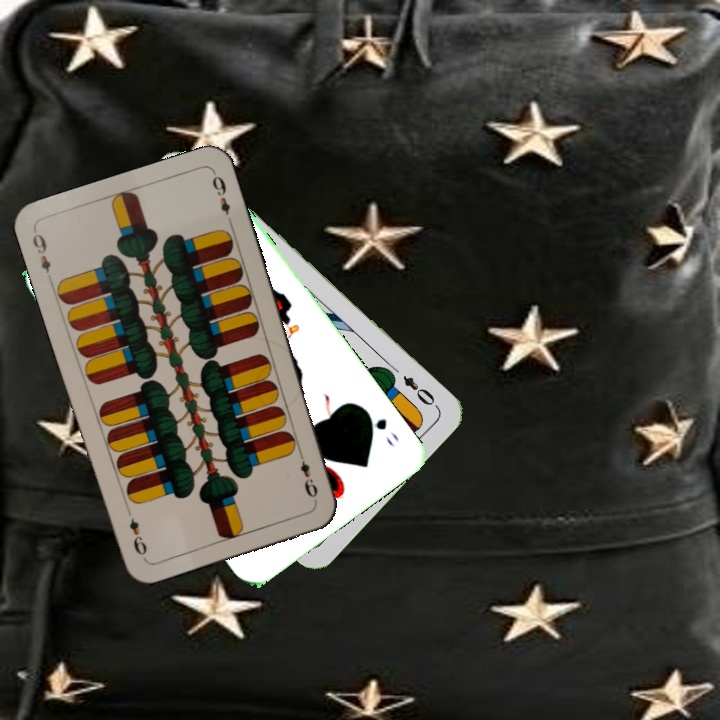E9: (294, 446, 321, 504), (28, 229, 53, 276)
EO: (398, 371, 438, 409)
GO: (360, 405, 402, 450)
